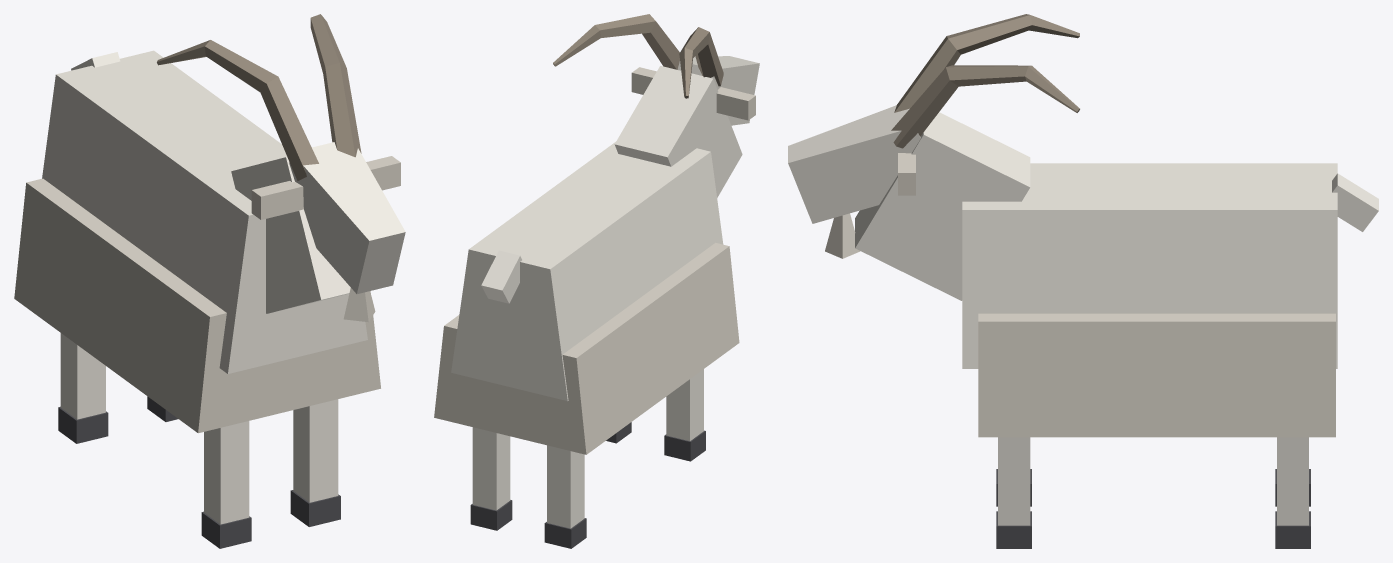
The model's file is goat.glb.
3 renders of one model, left to right at view 1: azimuth 30°, elevation 25°; view 2: azimuth 150°, elevation 25°; view 3: azimuth 270°, elevation 25°, orthographic. The views are drawn at different scales.
Parts seen in each view (by area): view 1: SG_Goat; view 2: SG_Goat; view 3: SG_Goat.
Boxes of the visible parts, x1=… form: SG_Goat: x1=14, y1=14, x2=405, y2=548; SG_Goat: x1=434, y1=14, x2=759, y2=548; SG_Goat: x1=788, y1=14, x2=1378, y2=548.
Bounding box in the file's own units: 0.575 × 1.48 × 1.65.
